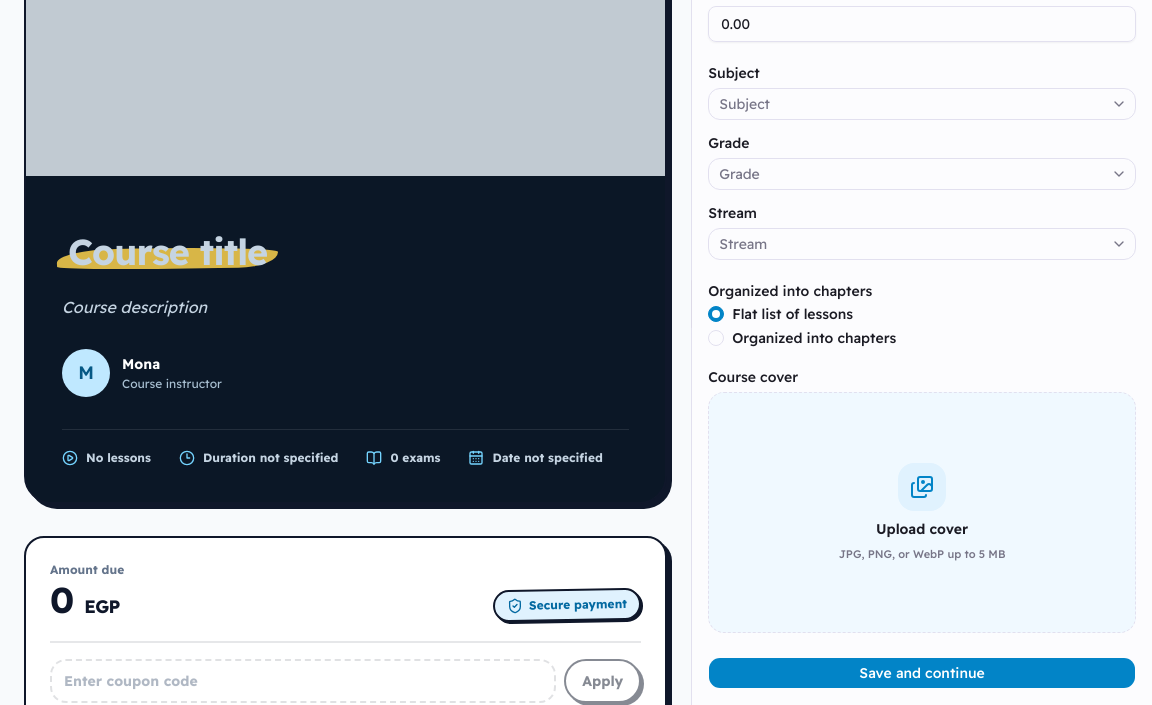
Test case: CreateCourseWorkspace › blocks save without a title and sends no request
(page scrolled)
Click the button "Save and continue" at (922, 673), box [708,657,1136,689]
(page scrolled)
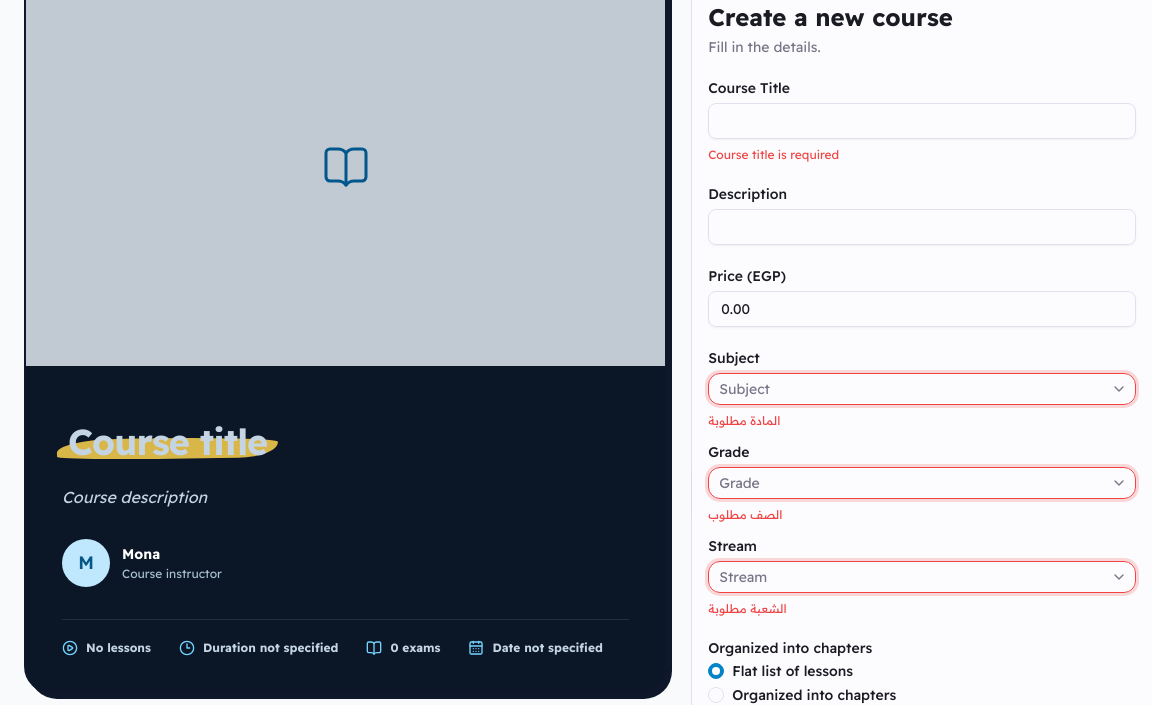
Expected: the text "Course title is required" is shown, [708,147,839,162]
